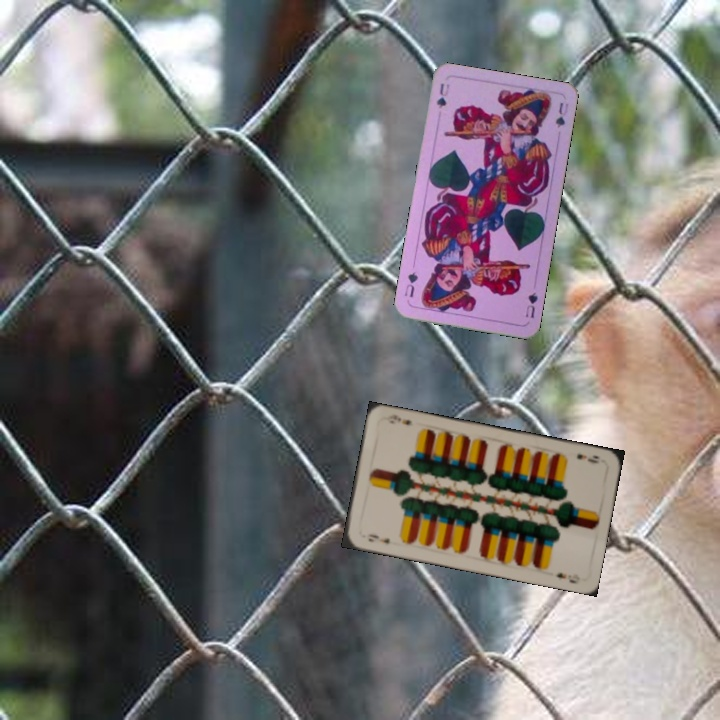E9: (573, 450, 602, 466), (364, 530, 392, 546)
GU: (432, 79, 452, 111), (521, 288, 540, 321)
